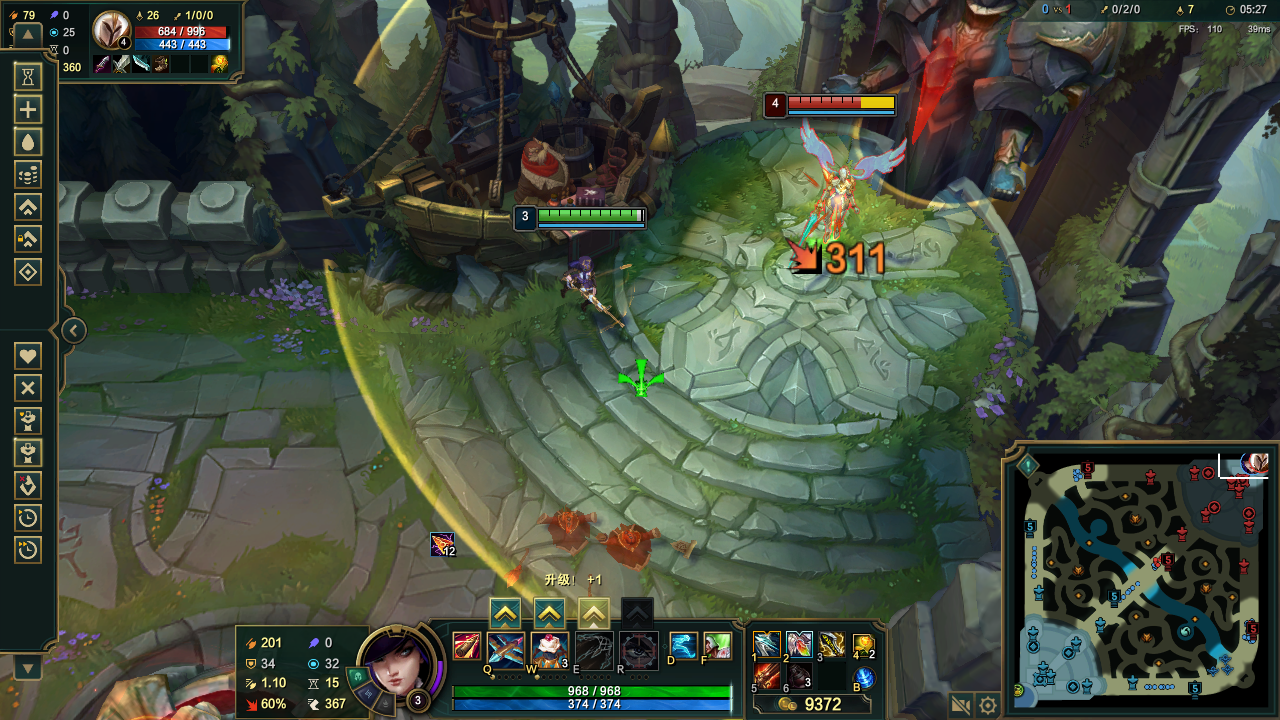DFYX: (789, 94, 899, 106)
